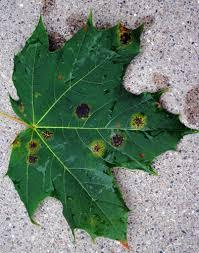leaf_spot: (10, 19, 178, 235)
